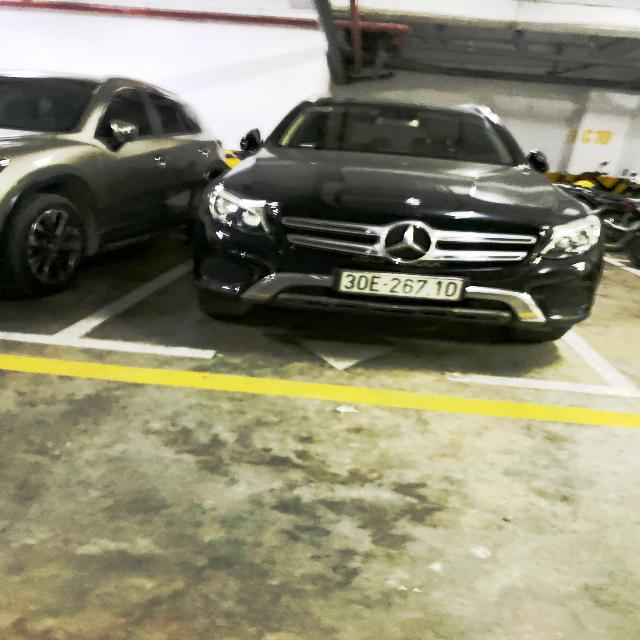license_plate: (337, 269, 469, 304)
